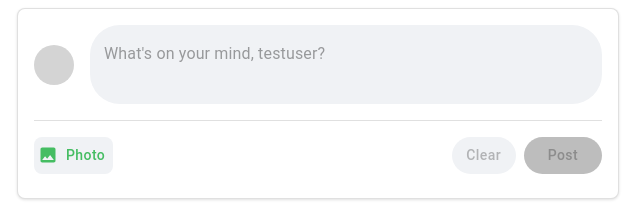
Scenario: CreatePost Component › clears all content when clear button is clicked
Type "Test content" into the text box with placeholder "What's on your mind, testuser?". click: (346, 64)
box: [104,42,588,88]
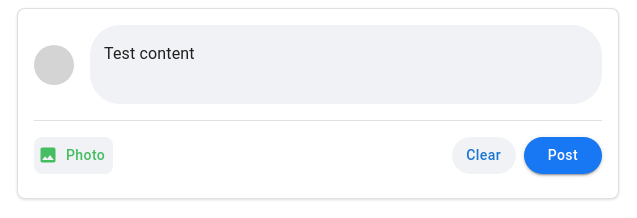
Click the button "Clear". click: (484, 155)
box: [452,137,516,174]
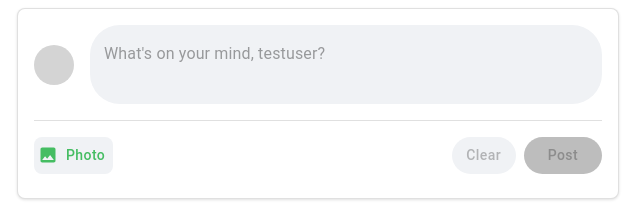
Expected: the text box with placeholder "What's on your mind, testuser?" is empty, [104,42,588,88]
